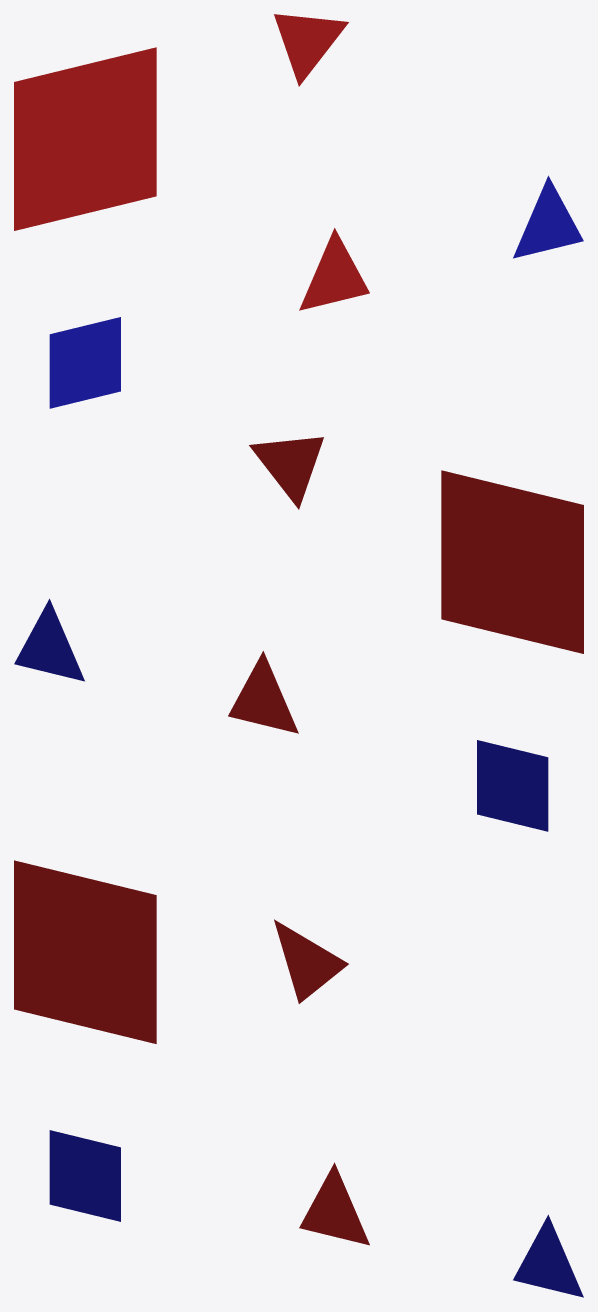
Rendered from seed_instancing.dae.
3 renders of one model, top to bottom at view 1: azimuth 30°, elevation 25°; view 2: azimuth 150°, elevation 25°; view 3: azimuth 330°, elevation 25°, orthographic.
Visible parts, largest first — view 1: QuadInstance2, QuadInstance1, Instance1, Instance2, Instance3; view 2: QuadInstance2, QuadInstance1, Instance1, Instance2, Instance3; view 3: QuadInstance2, QuadInstance1, Instance2, Instance3, Instance1.
Part boxes in pixels (bbox=[...]): QuadInstance2: bbox=[14, 47, 156, 230]; QuadInstance1: bbox=[49, 317, 120, 408]; Instance1: bbox=[299, 228, 369, 310]; Instance2: bbox=[513, 175, 583, 258]; Instance3: bbox=[274, 14, 348, 86]; QuadInstance2: bbox=[441, 470, 583, 653]; QuadInstance1: bbox=[477, 740, 548, 831]; Instance1: bbox=[228, 651, 298, 733]; Instance2: bbox=[14, 598, 84, 681]; Instance3: bbox=[249, 437, 323, 509]; QuadInstance2: bbox=[14, 860, 156, 1043]; QuadInstance1: bbox=[49, 1130, 120, 1221]; Instance2: bbox=[513, 1214, 583, 1297]; Instance3: bbox=[274, 919, 348, 1003]; Instance1: bbox=[299, 1162, 369, 1245].
Size of the model in its own units: 8 by 4.56 by 0.
